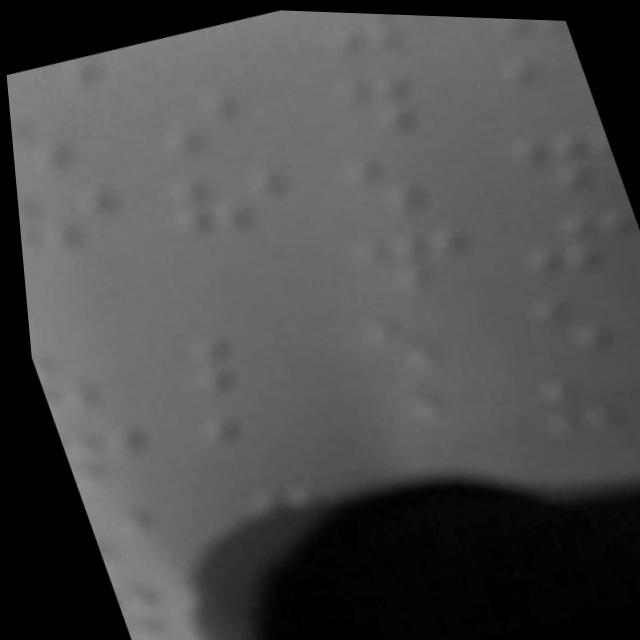braiile: (162, 300, 331, 410), (149, 148, 318, 257), (319, 49, 479, 159), (340, 288, 499, 398), (142, 65, 302, 172), (335, 207, 492, 314), (327, 130, 483, 237), (508, 343, 640, 451), (508, 265, 640, 368), (12, 171, 136, 273), (6, 89, 130, 187), (320, 9, 470, 77)
